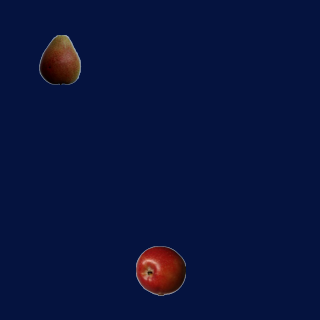Apple Braeburn: (135, 245, 185, 295)
Pear Forelle: (34, 34, 84, 84)
